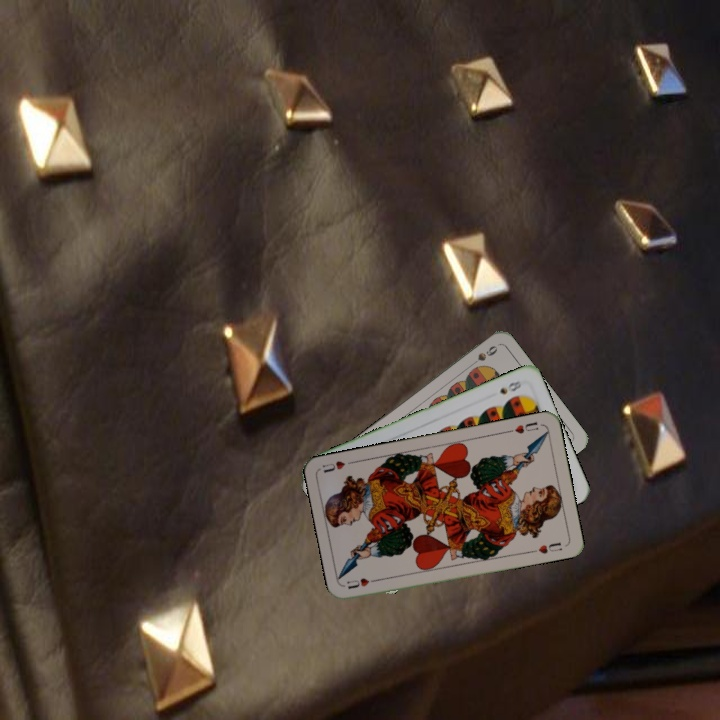HU: (503, 418, 541, 436), (343, 574, 382, 591)
S8: (496, 377, 527, 397)
S9: (465, 341, 500, 370)
